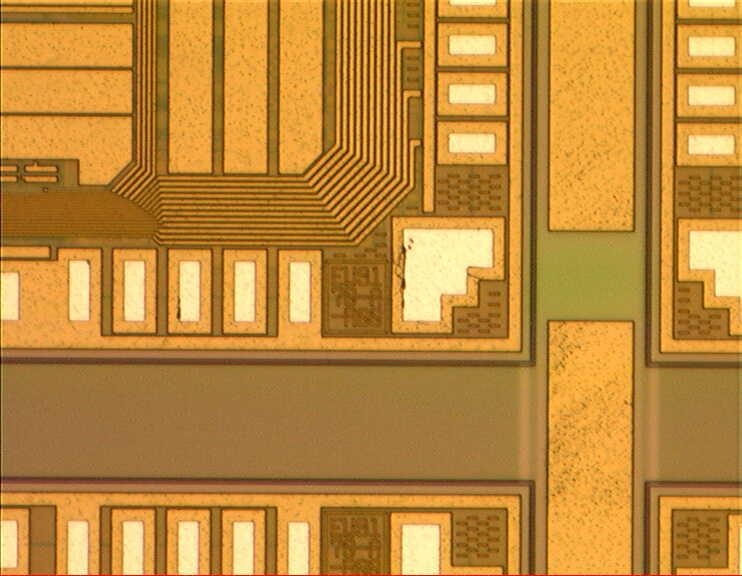PO CONTAMINATION: (159, 231, 421, 333)
